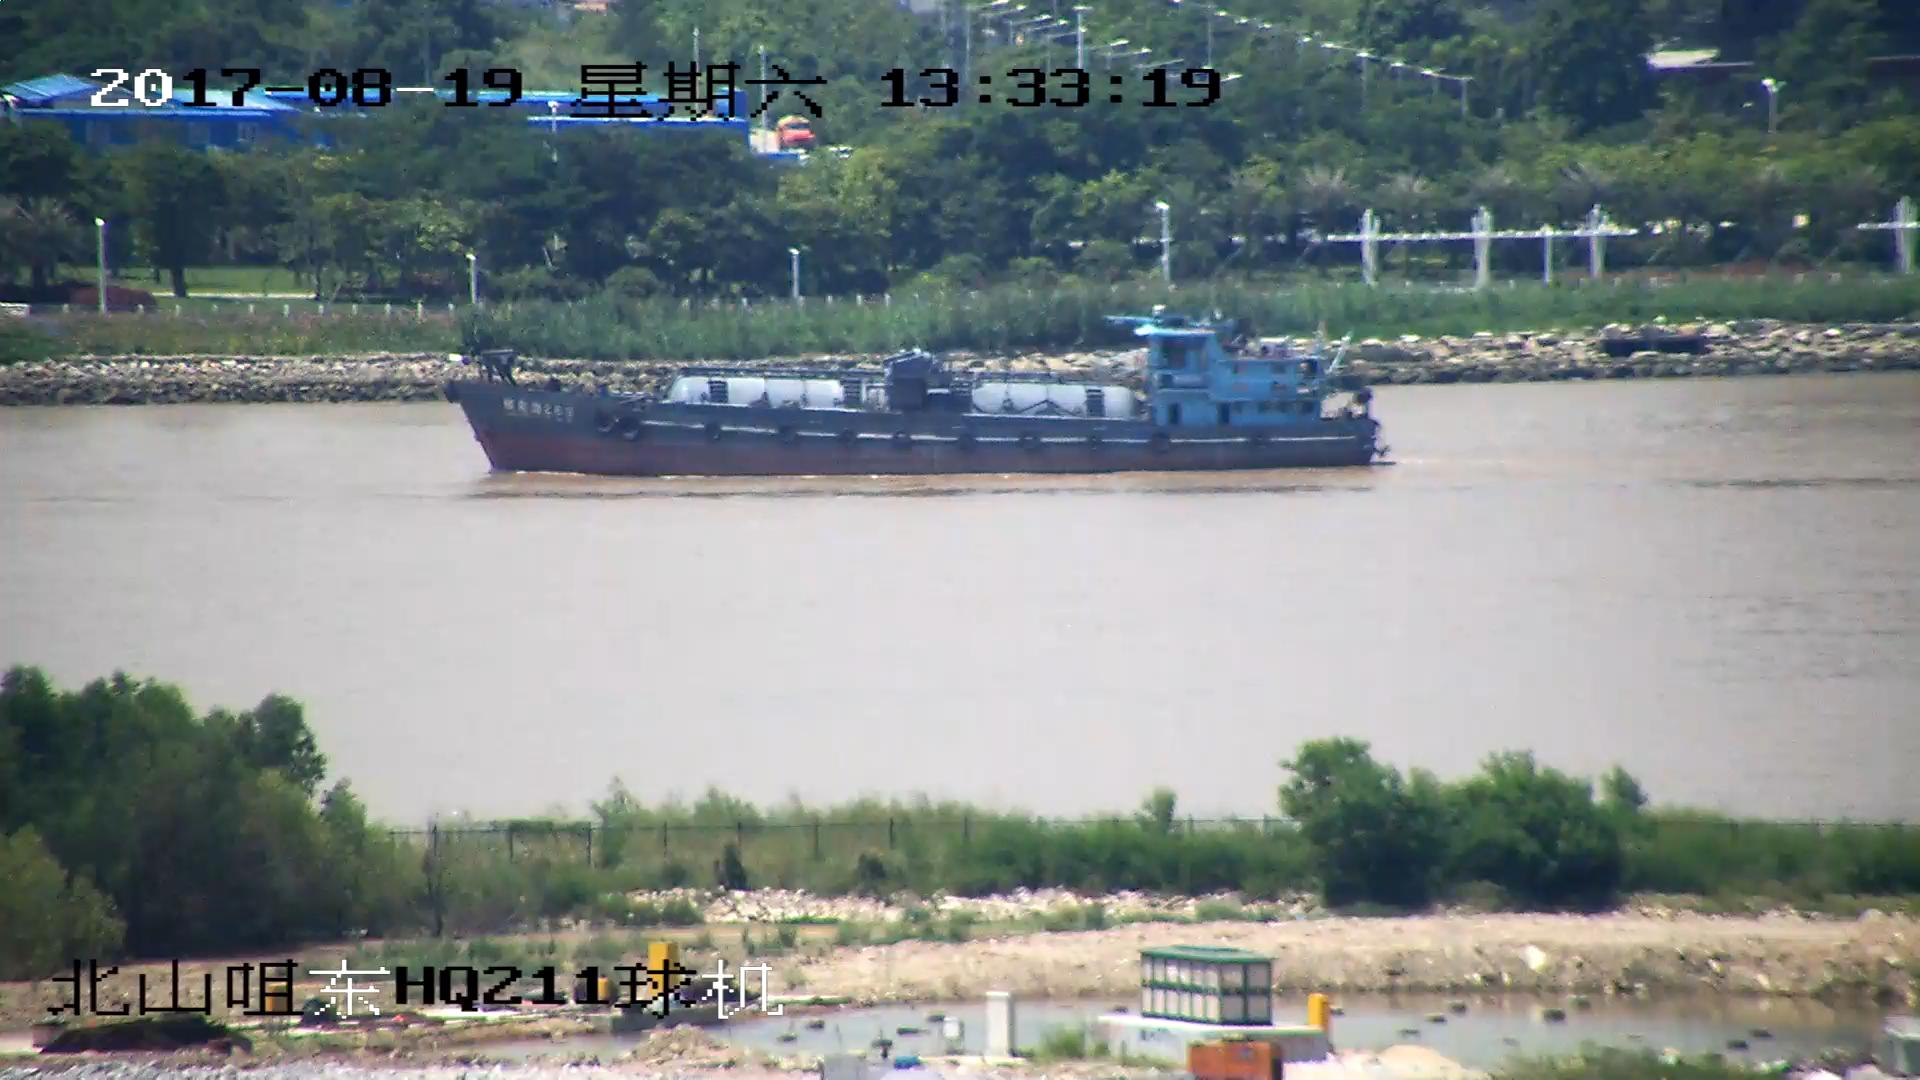bulk cargo carrier: (444, 316, 1381, 477)
